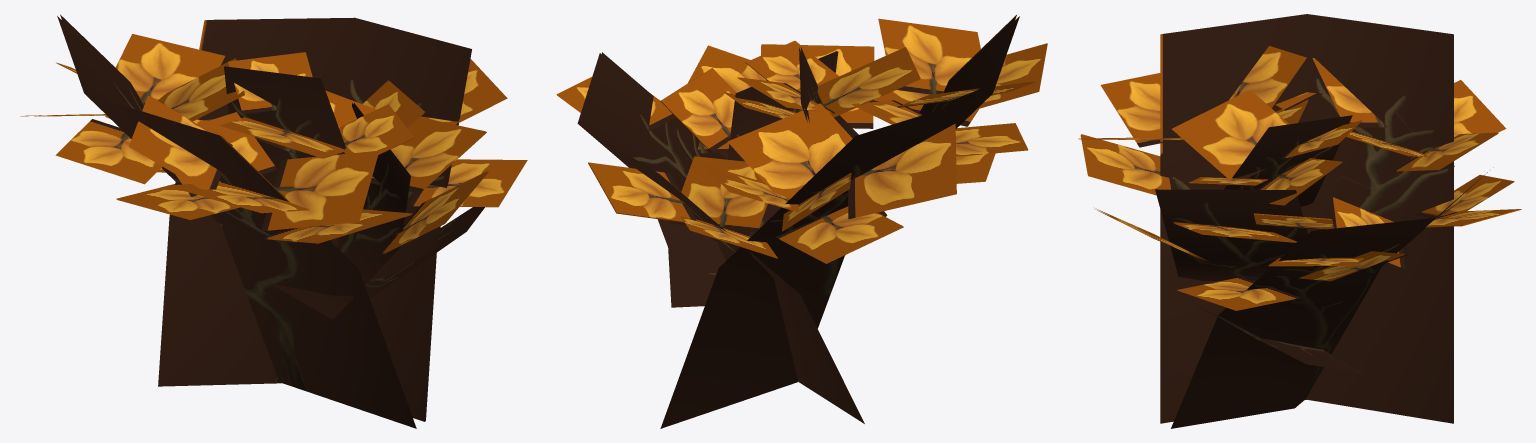
The model's file is bush_04b.fbx.
The picture shows the model from 3 angles, left to right: view 1: azimuth 30°, elevation 25°; view 2: azimuth 150°, elevation 25°; view 3: azimuth 270°, elevation 25°; orthographic projection. The views are drawn at different scales.
Visible parts, largest first — view 1: bush_04b; view 2: bush_04b; view 3: bush_04b.
Boxes of the visible parts, x1,y1,x2,y2 form: bush_04b: [20, 14, 527, 428]; bush_04b: [556, 15, 1047, 428]; bush_04b: [1078, 14, 1521, 428].
Size of the model in its own units: 7.66 by 5.64 by 7.49.
